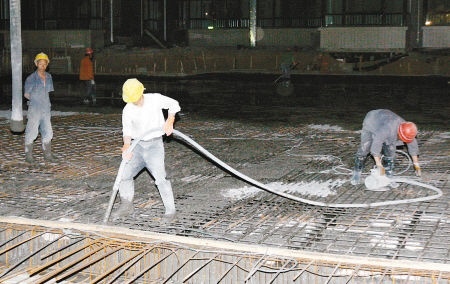red: (396, 119, 417, 144), (83, 46, 93, 58)
yellow: (121, 78, 145, 105), (32, 52, 49, 72)
